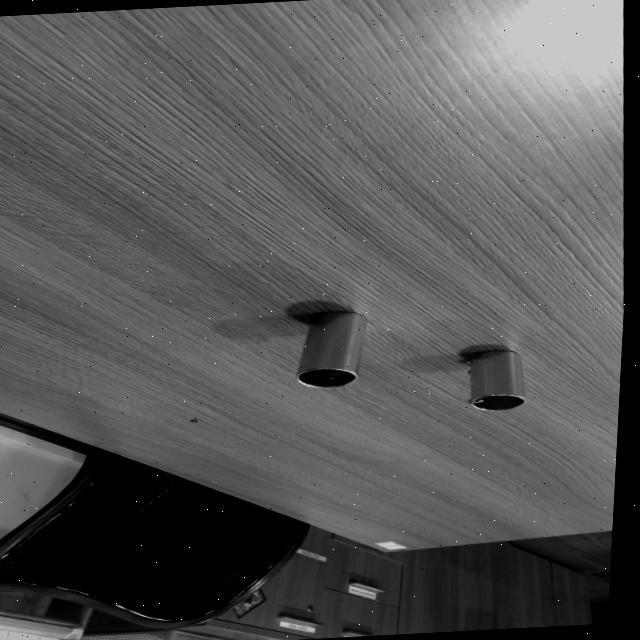Co_Lon: (295, 304, 370, 395)
Co_Nho: (466, 349, 525, 412)
